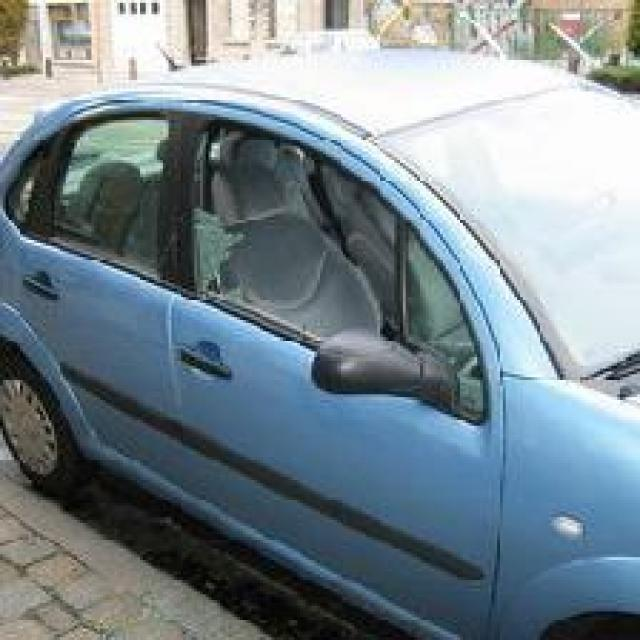damaged: (191, 120, 503, 429)
